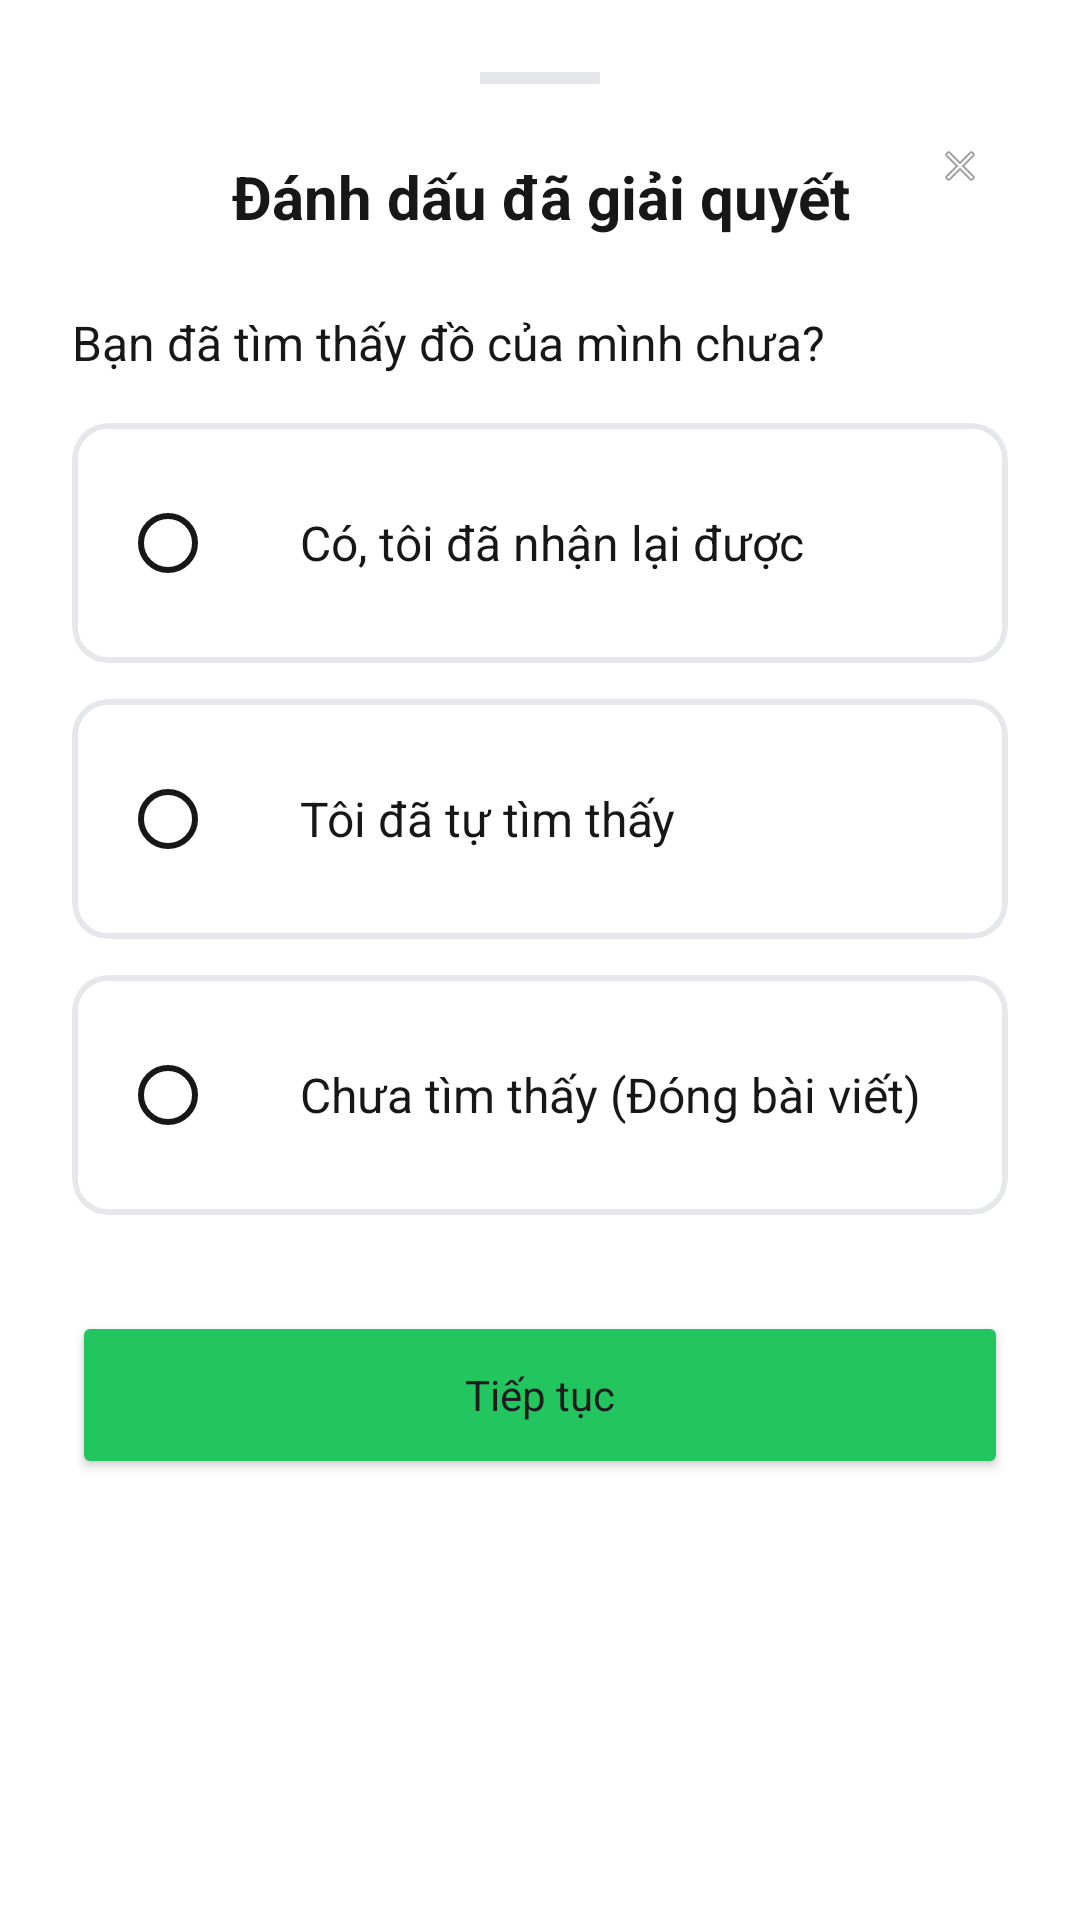

Icon bounding boxes for this 1080px×1920px phone screenshot, format {"left": x1, "top": y1, "right": x2, "bottom": y2}:
Đóng: {"left": 945, "top": 151, "right": 975, "bottom": 181}
